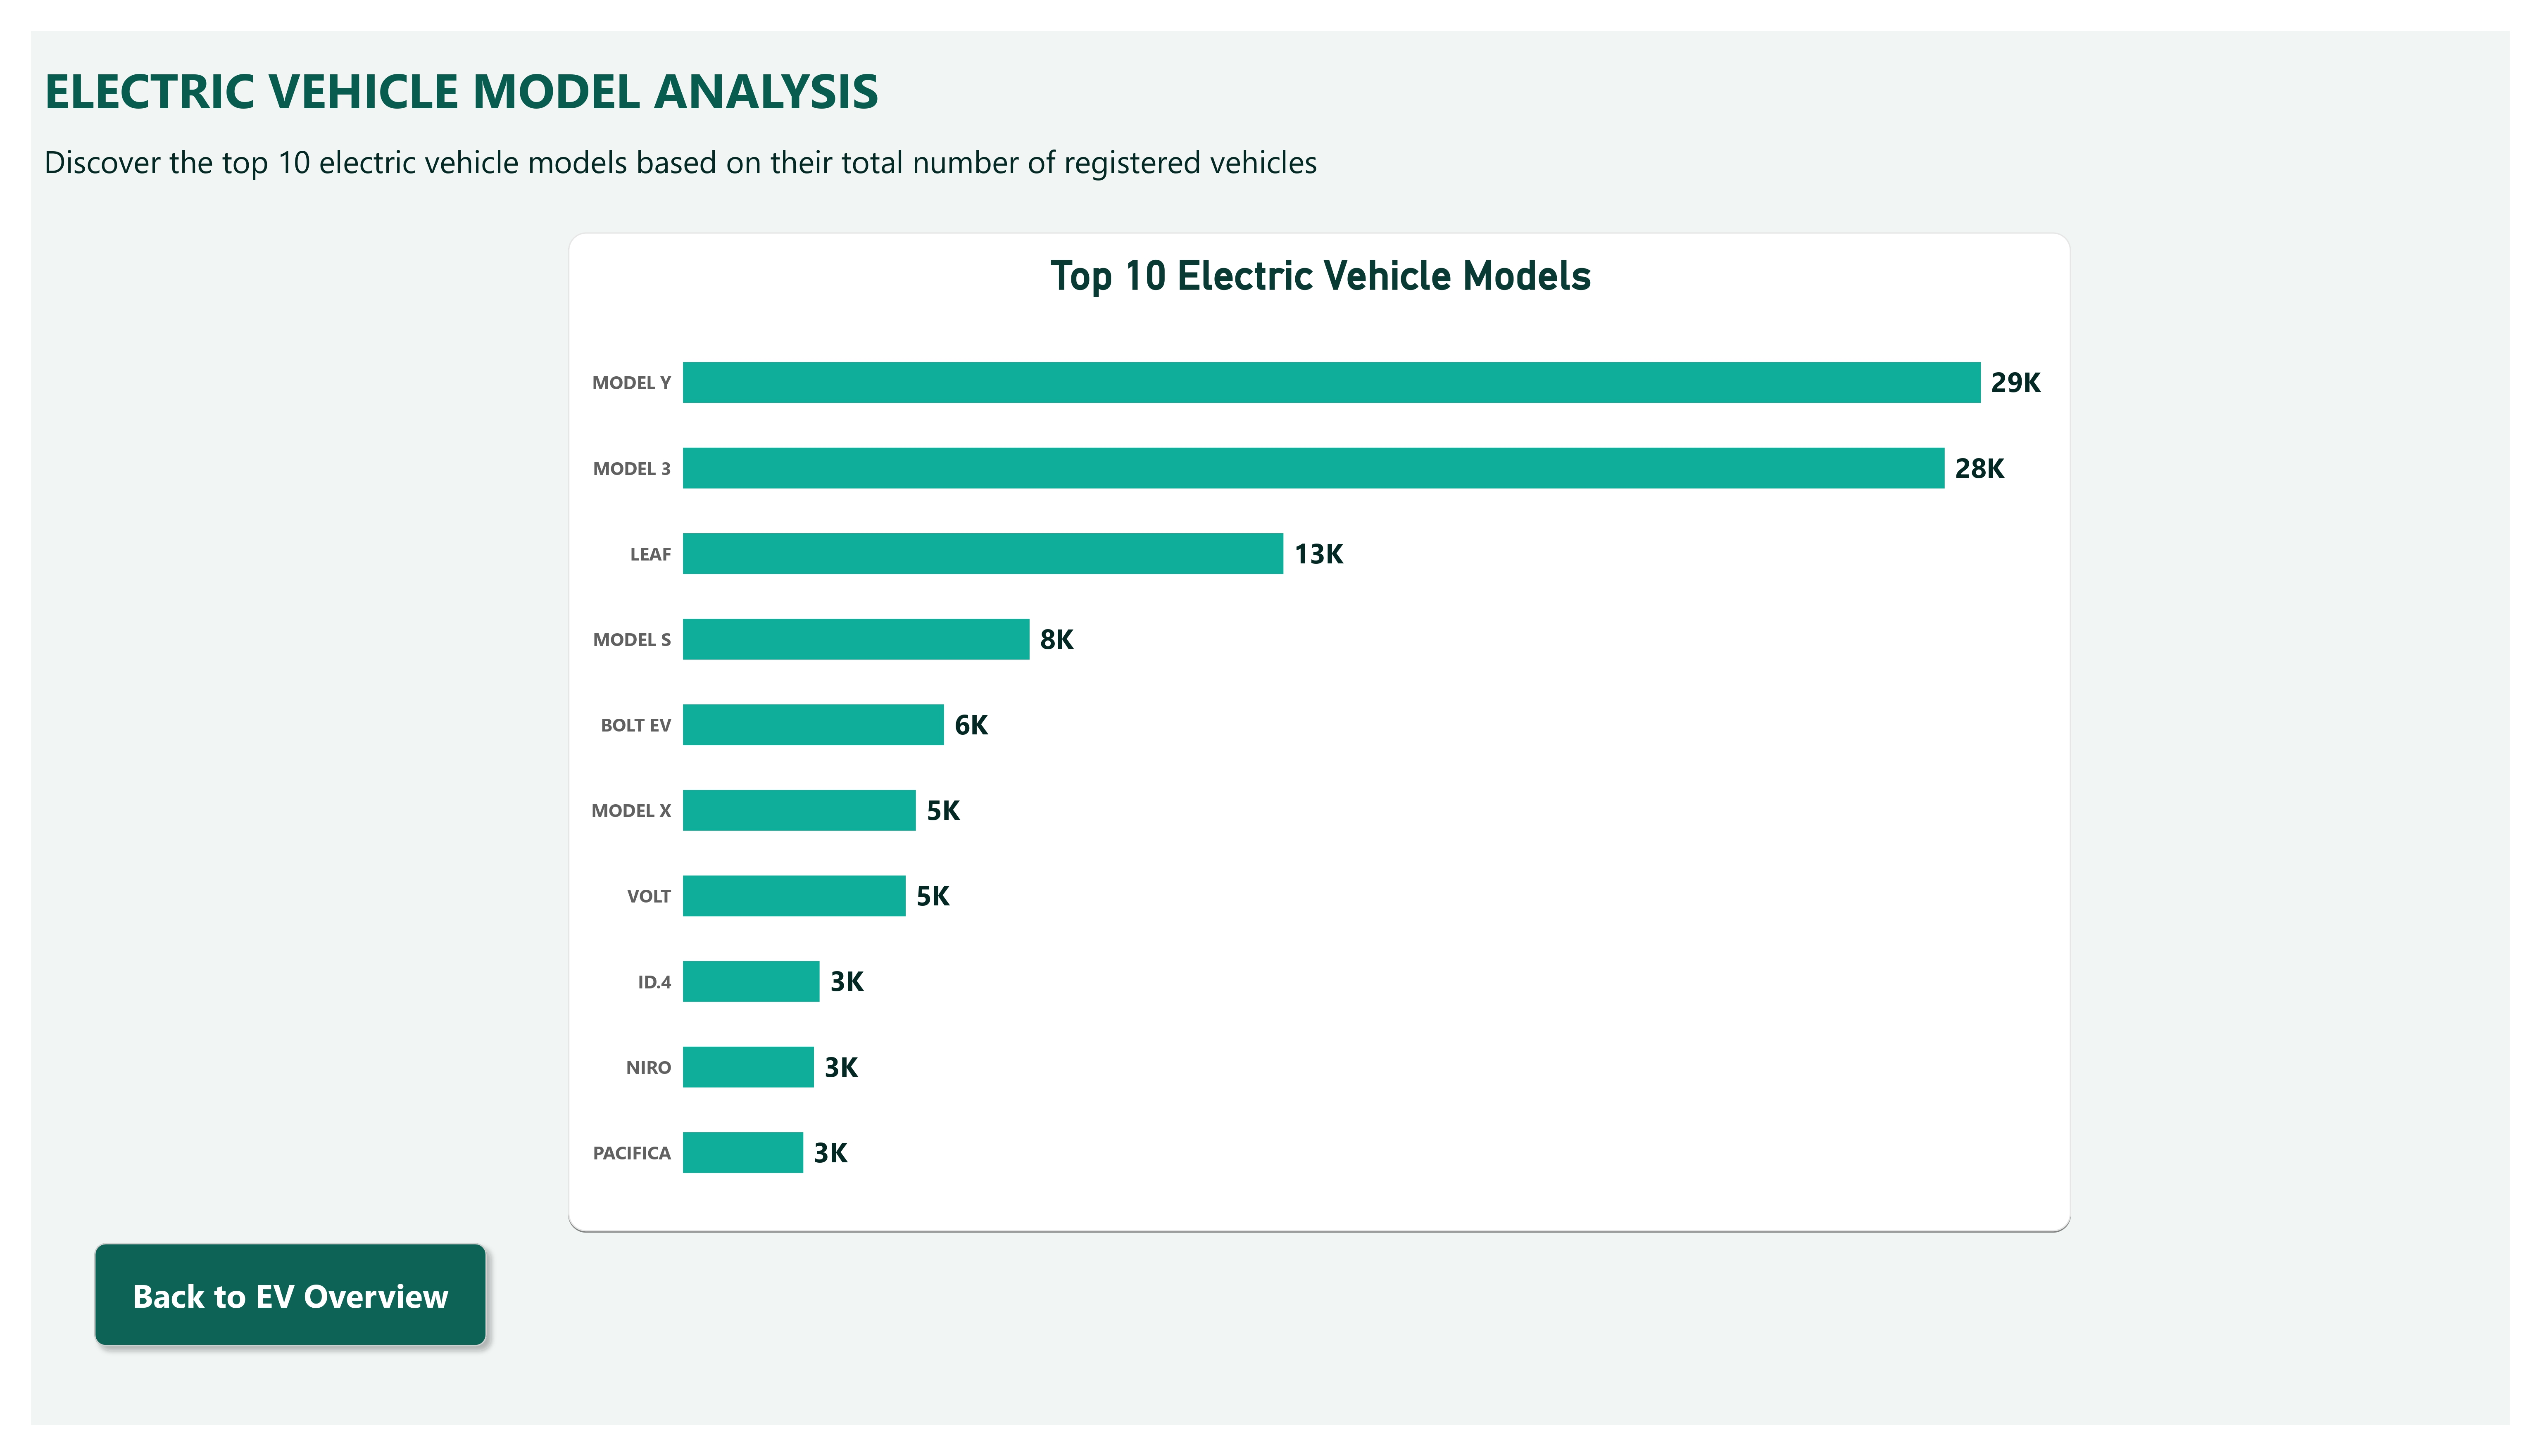

Layout of this report page (visuals, bound fields, positions):
{"tool":"powerbi","page":{"name":"Model Analysis","canvas":[1920,1080],"ordinal":2},"visuals":[{"type":"textbox","box":[10,20,704,64],"z":0},{"type":"clusteredBarChart","title":"Top 10 Electric Vehicle Models","fields":{"Category":["EV_Data.Model"],"Y":["EV_Data.Total Vehicles"]},"box":[416,156,1164,774],"z":1000},{"type":"actionButton","box":[40,930,322,98],"z":2000},{"type":"textbox","box":[10,84,998,44],"z":3000}]}

Visuals, with their boxes on the page's 1920x1080 design canvas (x1, y1, x2, y2). These are canvas units, not pixel positions in the 2541x1456 screenshot, which may show the page scaled, cropped or inside an application window:
textbox: 10,20,714,84
"Top 10 Electric Vehicle Models" clusteredBarChart: 416,156,1580,930
actionButton: 40,930,362,1028
textbox: 10,84,1008,128
